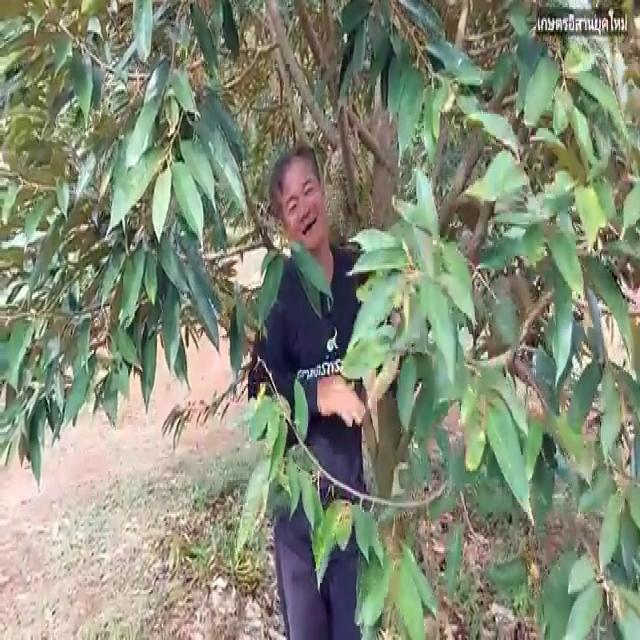durian: (325, 141, 365, 218)
